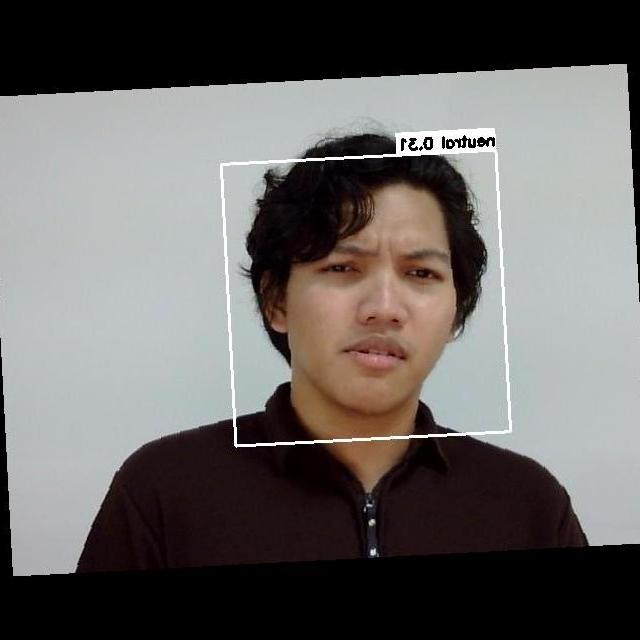Fear: (262, 218, 488, 423)
